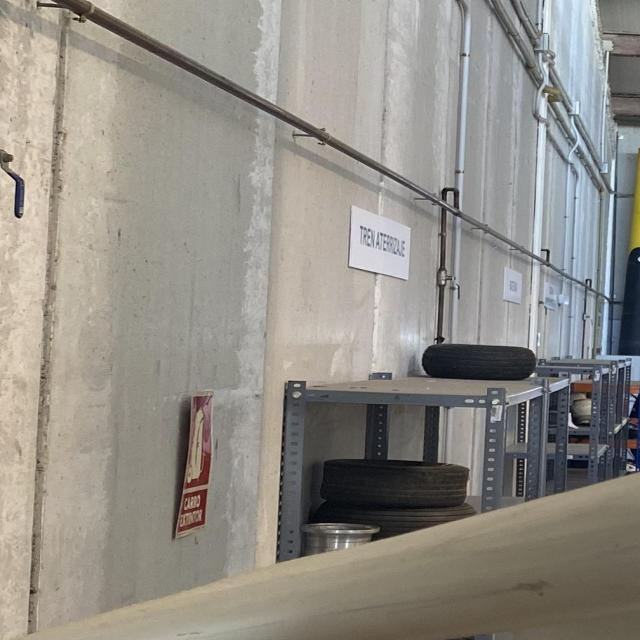Paint-off: (512, 582, 545, 595), (187, 630, 201, 638), (176, 633, 189, 636)
